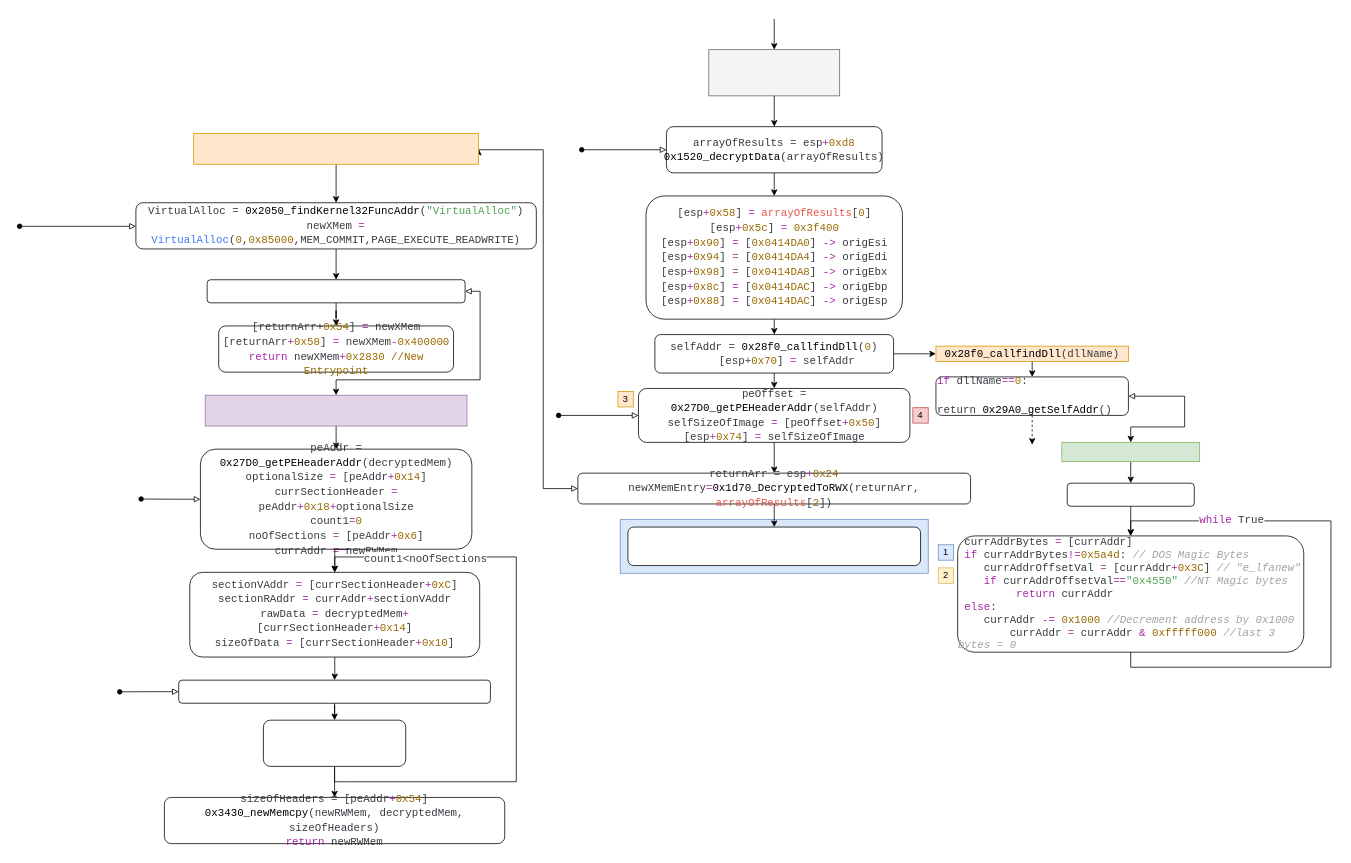
This 1351x863 diagram has some shape labels left out. The box of each missing label's shape, as (x1, y1, x2, y2) in pixels:
0x1d70_DecryptedToRWX(returnArr, decryptedMem): (193, 133, 479, 164)
0x1e30_copyDecrypted(newRWMem,decryptedMem): (204, 394, 467, 426)
0x1e30_copyDecrypted(newXMem, decryptedMem): (206, 279, 465, 303)
0x29A0_getSelfAddr: (1061, 442, 1200, 462)
0x3430_newMemcpy(sectionRAddr, rawData, sizeOfData): (178, 679, 490, 703)
0x3520_startUnpacking: (708, 49, 840, 96)
count1+= 1 currSectionHeader = currSectionHeader + 0x28: (263, 719, 406, 766)
currAddr = 0x4029A0: (1066, 482, 1194, 506)
newXMemEntry (returnArr) // Enter decrypted entry: (627, 526, 921, 566)
